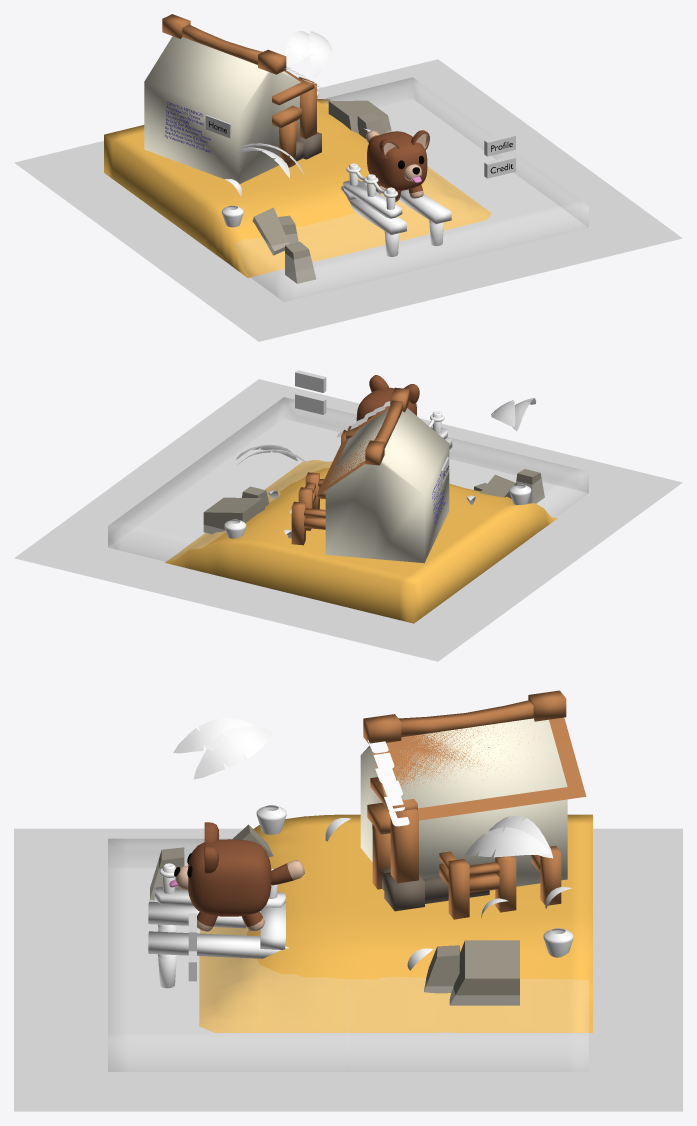
Rendered from sae.glb.
The picture shows the model from 3 angles, top to bottom: view 1: azimuth 30°, elevation 25°; view 2: azimuth 150°, elevation 25°; view 3: azimuth 270°, elevation 25°; orthographic projection. The views are drawn at different scales.
Visible parts, largest first — view 1: Plane.014, Water, sand, Cube, Cube.025, Cube.008, Cube.002, Cube.011, Cube.006, Cube.014, Cube.013, Plane.007 (+8 smaller); view 2: Plane.014, sand, Water, Cube, Cube.009, Cube.011, Cube.001, Cube.025, Cube.014, Cube.006, Cube.019, Cube.017 (+1 smaller); view 3: Plane.014, Water, sand, Cube, Cube.025, Cube.001, Cube.008, Cube.009, Cube.011, Cube.002, Cube.006, Plane.009 (+12 smaller).
Boxes of the visible parts, <box> form: Plane.014: <box>14,59,682,341</box>; Water: <box>235,77,588,301</box>; sand: <box>104,99,491,278</box>; Cube: <box>144,36,300,184</box>; Cube.025: <box>367,130,429,190</box>; Cube.008: <box>343,180,451,234</box>; Cube.002: <box>272,77,316,167</box>; Cube.011: <box>328,100,391,133</box>; Cube.006: <box>182,24,262,64</box>; Cube.014: <box>285,241,316,283</box>; Cube.013: <box>252,207,289,255</box>; Plane.007: <box>308,31,332,78</box>; Plane.014: <box>14,379,682,661</box>; sand: <box>165,460,557,623</box>; Water: <box>108,397,588,561</box>; Cube: <box>325,408,449,563</box>; Cube.009: <box>291,472,325,545</box>; Cube.011: <box>203,497,264,534</box>; Cube.001: <box>316,406,389,496</box>; Cube.025: <box>356,375,419,420</box>; Cube.014: <box>516,469,544,503</box>; Cube.006: <box>374,400,402,448</box>; Cube.019: <box>295,370,326,392</box>; Cube.017: <box>295,392,326,414</box>; Plane.014: <box>14,828,682,1111</box>; Water: <box>108,839,588,1071</box>; sand: <box>199,814,592,1032</box>; Cube: <box>360,718,567,890</box>; Cube.025: <box>174,822,271,916</box>; Cube.001: <box>372,717,586,823</box>; Cube.008: <box>148,886,288,958</box>; Cube.009: <box>439,846,561,919</box>; Cube.011: <box>449,940,519,1005</box>; Cube.002: <box>367,777,418,889</box>; Cube.006: <box>398,700,533,737</box>; Plane.009: <box>194,726,272,779</box>.
Bounding box in the file's own units: 17.38 × 8.9 × 17.38.
